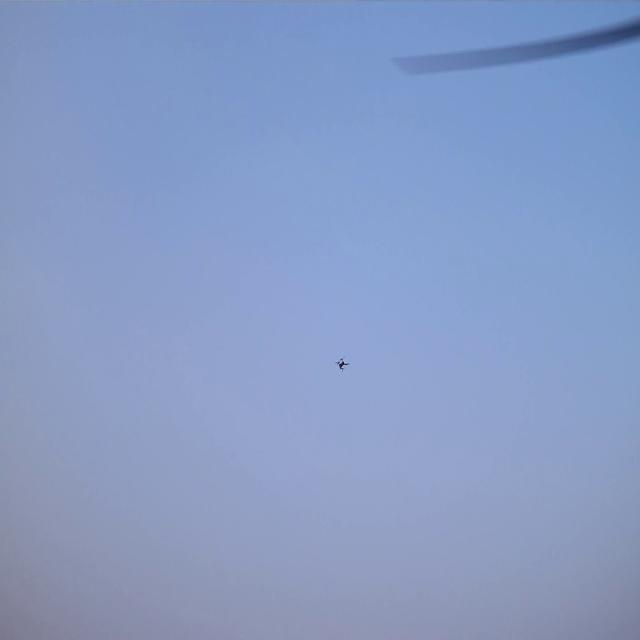UAV: (335, 354, 349, 376)
